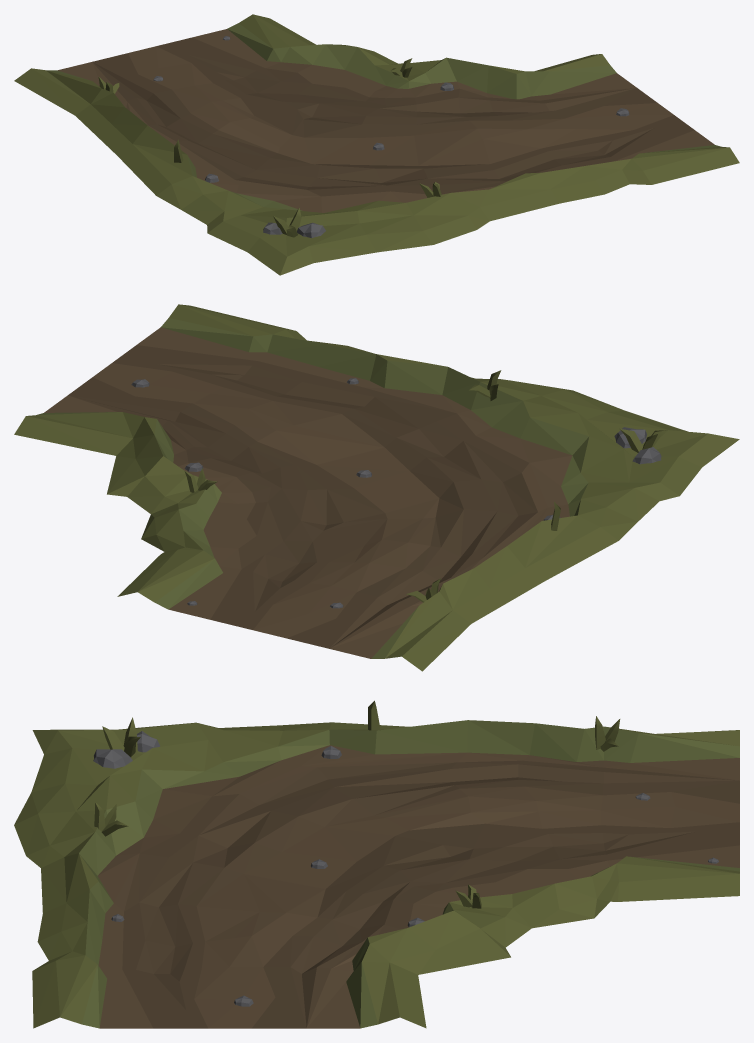
File: road_corner.glb
3 views of the same model, one above another, from view 1: azimuth 30°, elevation 25°; view 2: azimuth 150°, elevation 25°; view 3: azimuth 270°, elevation 25° (orthographic). The views are drawn at different scales.
Parts seen in each view (by area): view 1: SM_Env_Road_Corner_01; view 2: SM_Env_Road_Corner_01; view 3: SM_Env_Road_Corner_01.
Boxes of the visible parts, x1,y1,x2,y2 form: SM_Env_Road_Corner_01: (14, 14, 739, 275); SM_Env_Road_Corner_01: (14, 304, 739, 671); SM_Env_Road_Corner_01: (14, 700, 739, 1028).
Size of the model in its own units: 639 by 51.82 by 641.
Materials: 1 (1 with a texture image).
